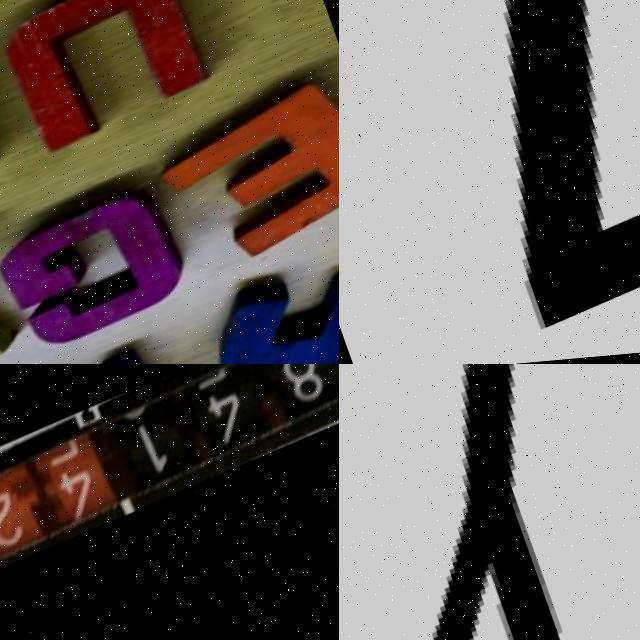1: (132, 419, 174, 485)
2: (0, 486, 33, 558)
4: (203, 388, 255, 460), (54, 462, 108, 531)
7: (376, 0, 640, 355)
8: (277, 364, 331, 418)
E: (156, 63, 339, 285)
G: (0, 153, 217, 364)
K: (160, 242, 339, 364)
U: (0, 0, 243, 174)
Y: (339, 364, 640, 640)
